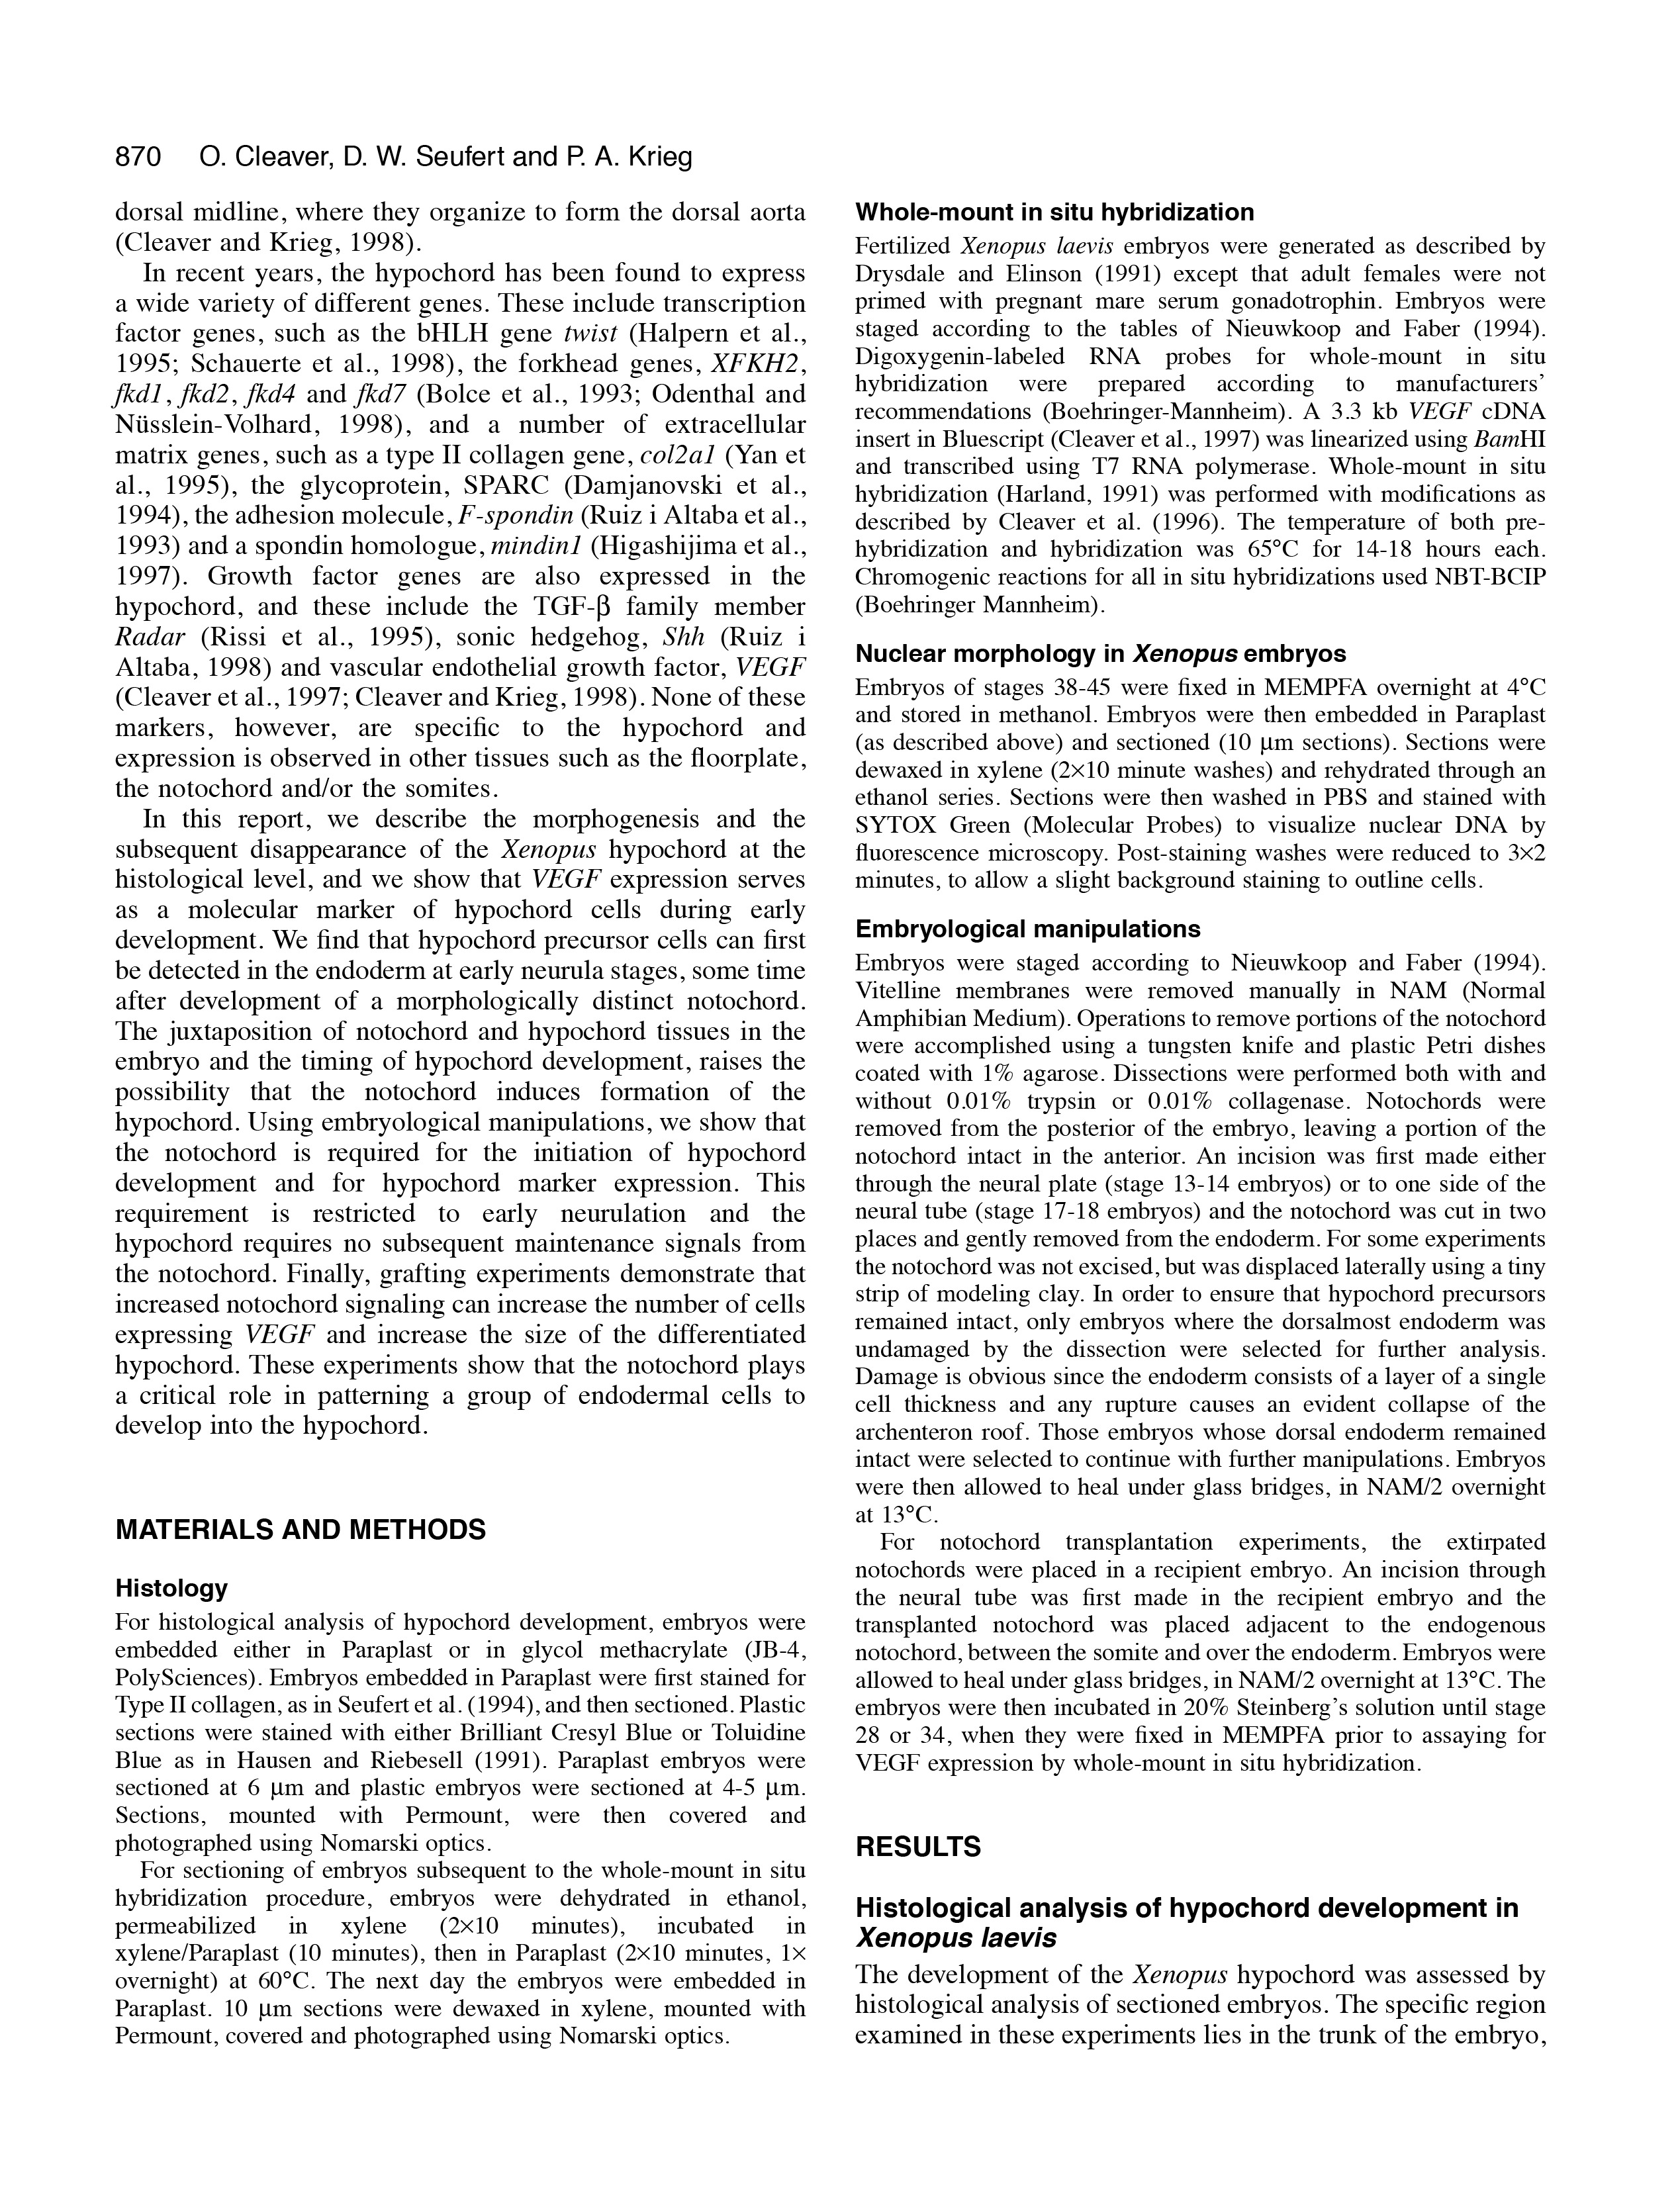section: (106, 124, 708, 196), (854, 1894, 1537, 1947), (844, 611, 1357, 673), (847, 890, 1214, 953), (847, 184, 1264, 237), (97, 1504, 514, 1553), (851, 1820, 997, 1868), (116, 1567, 244, 1617)
text: (109, 800, 833, 1447), (97, 210, 817, 810), (859, 967, 1564, 1520), (856, 247, 1534, 590), (109, 1605, 794, 1857), (847, 671, 1560, 907), (854, 1534, 1556, 1763), (83, 1860, 806, 2071), (851, 1956, 1544, 2078)
